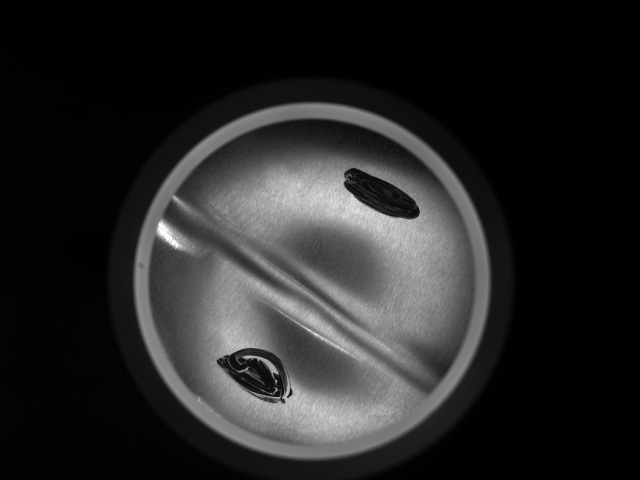zang_wu: (216, 345, 302, 406), (342, 165, 422, 223)
zhe_zhou: (193, 147, 431, 416)
